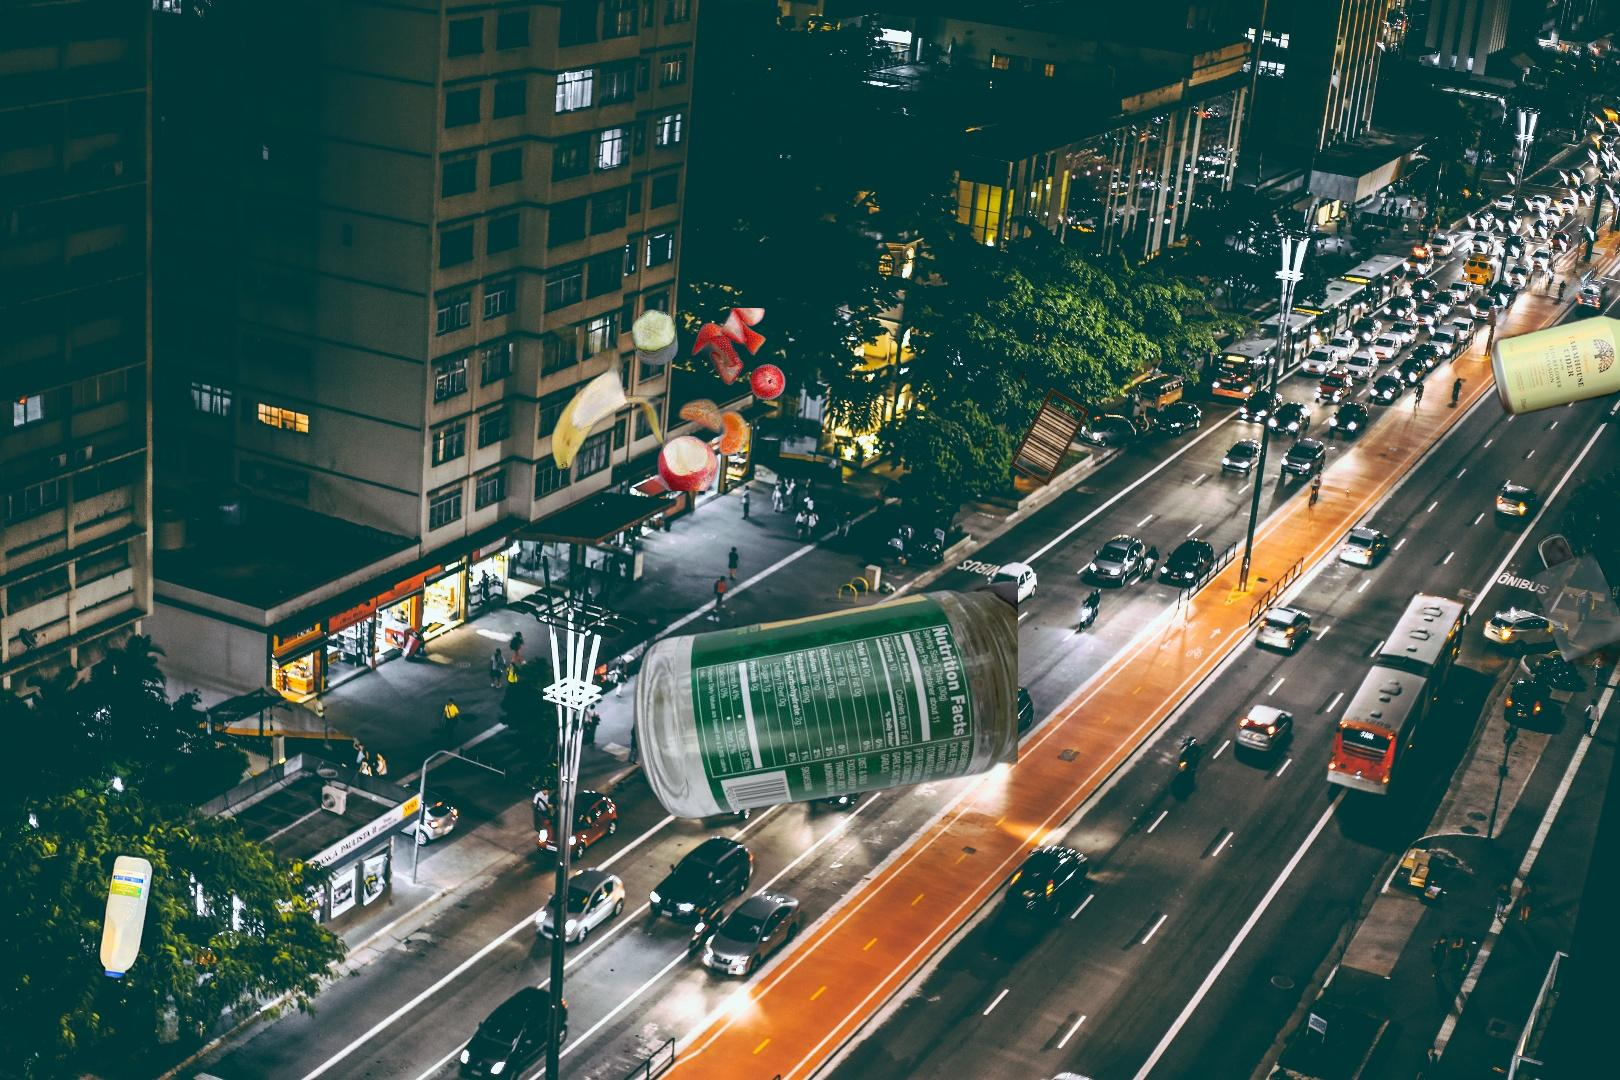biological: (544, 309, 797, 491)
glass: (629, 579, 1019, 823)
metal-cans: (1227, 309, 1620, 791)
paper-bag: (1526, 532, 1620, 665)
plastic-bottles: (94, 849, 157, 985)
trashbox-cardboard: (964, 303, 1477, 686)
